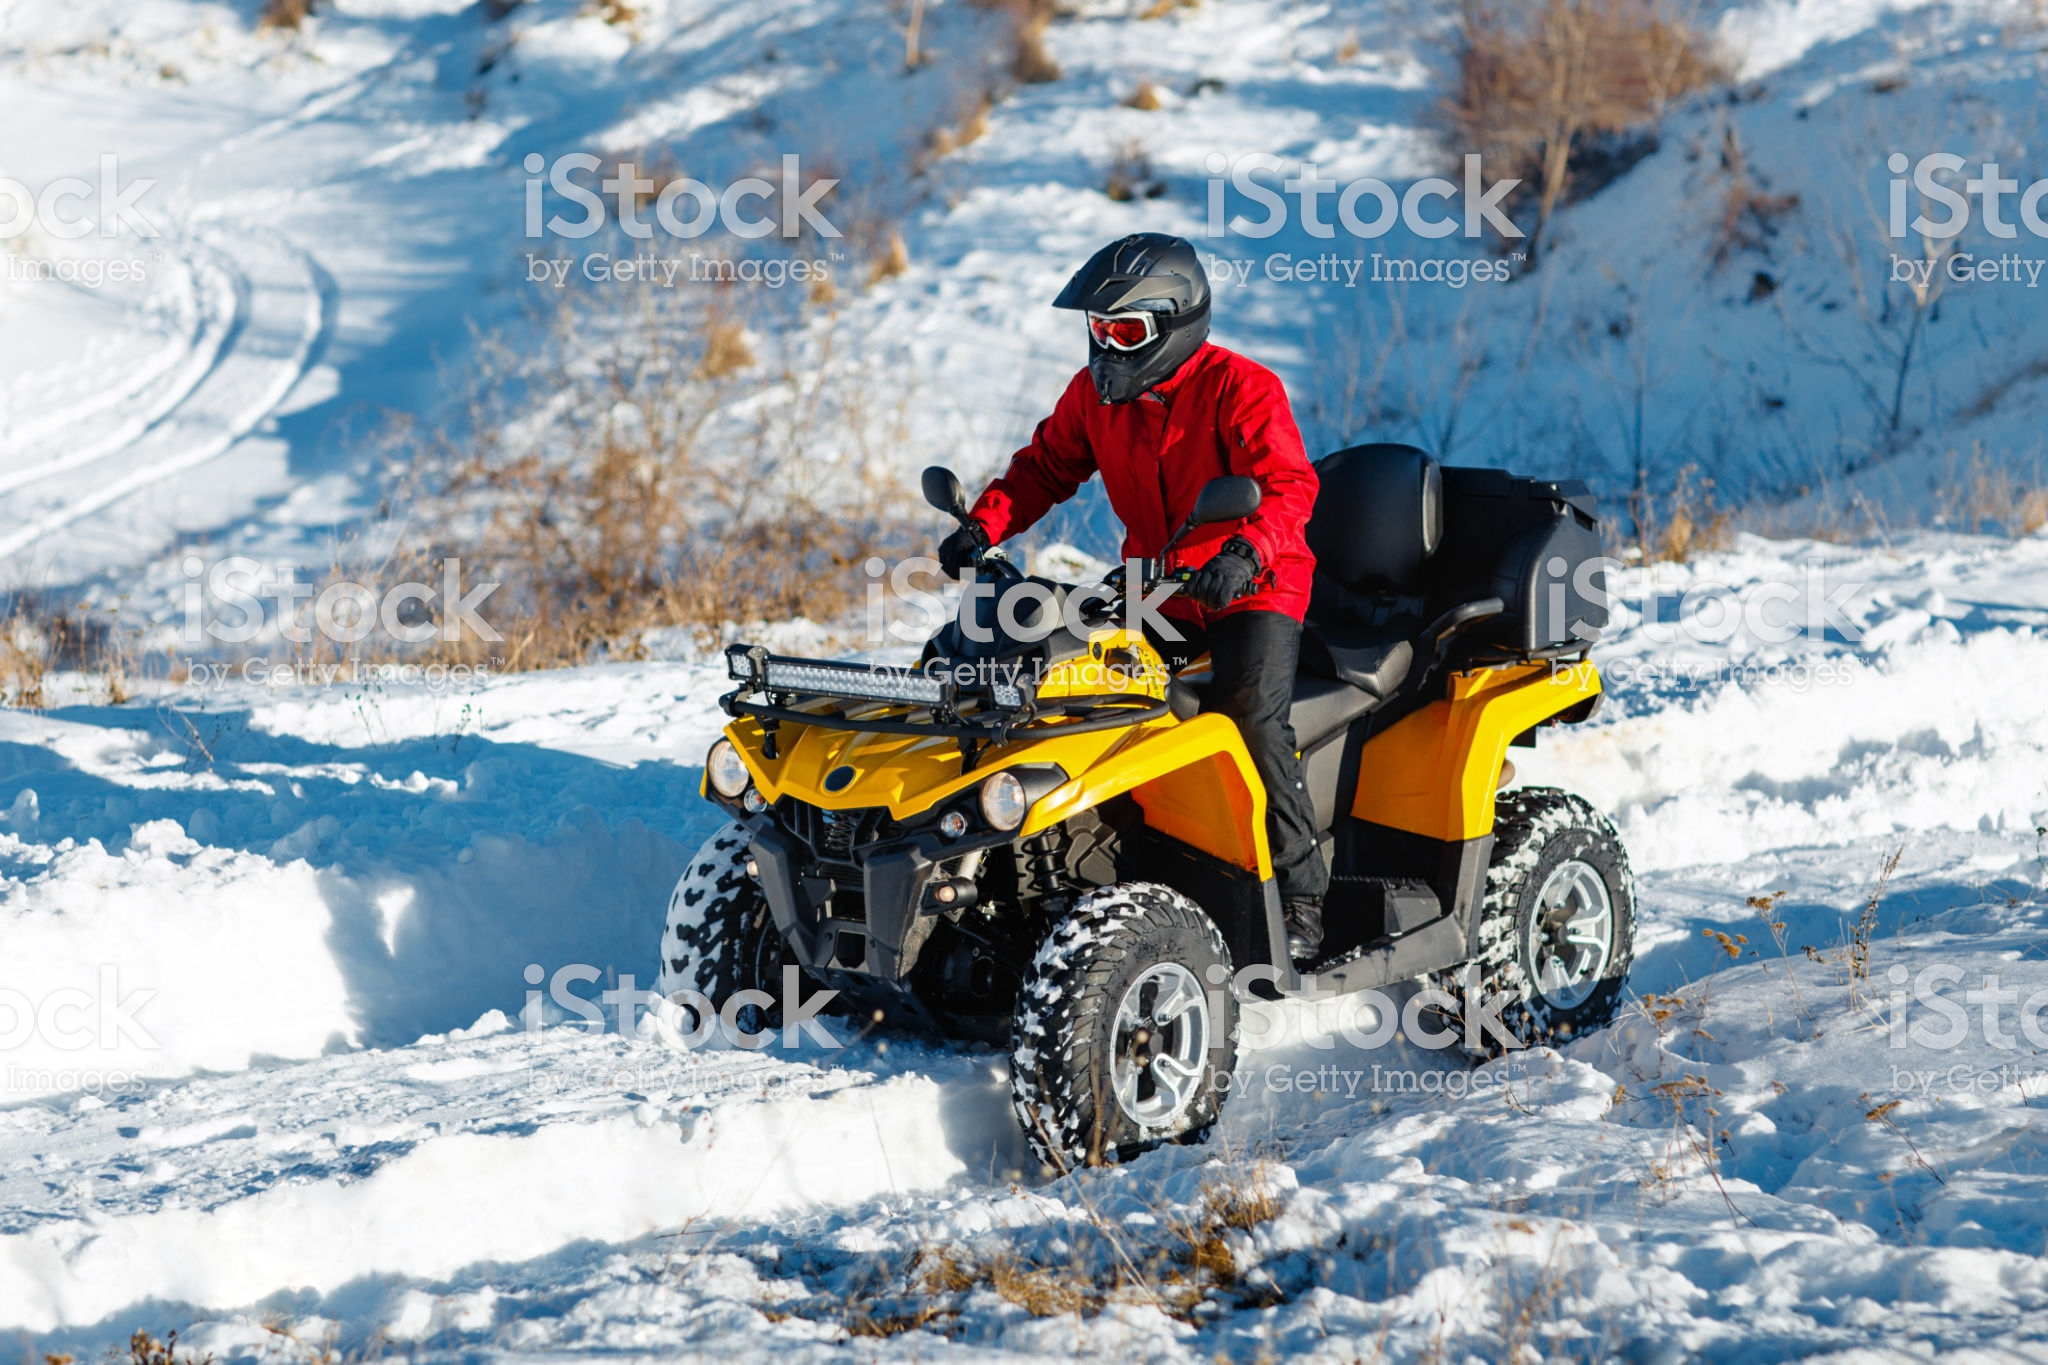helmet: (1046, 221, 1233, 385)
